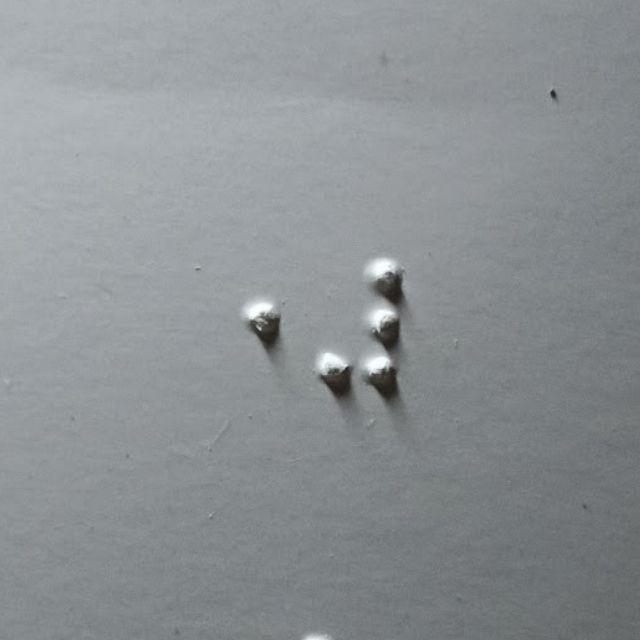bulaklak: (317, 260, 400, 387)
dot_5: (199, 261, 281, 388)
